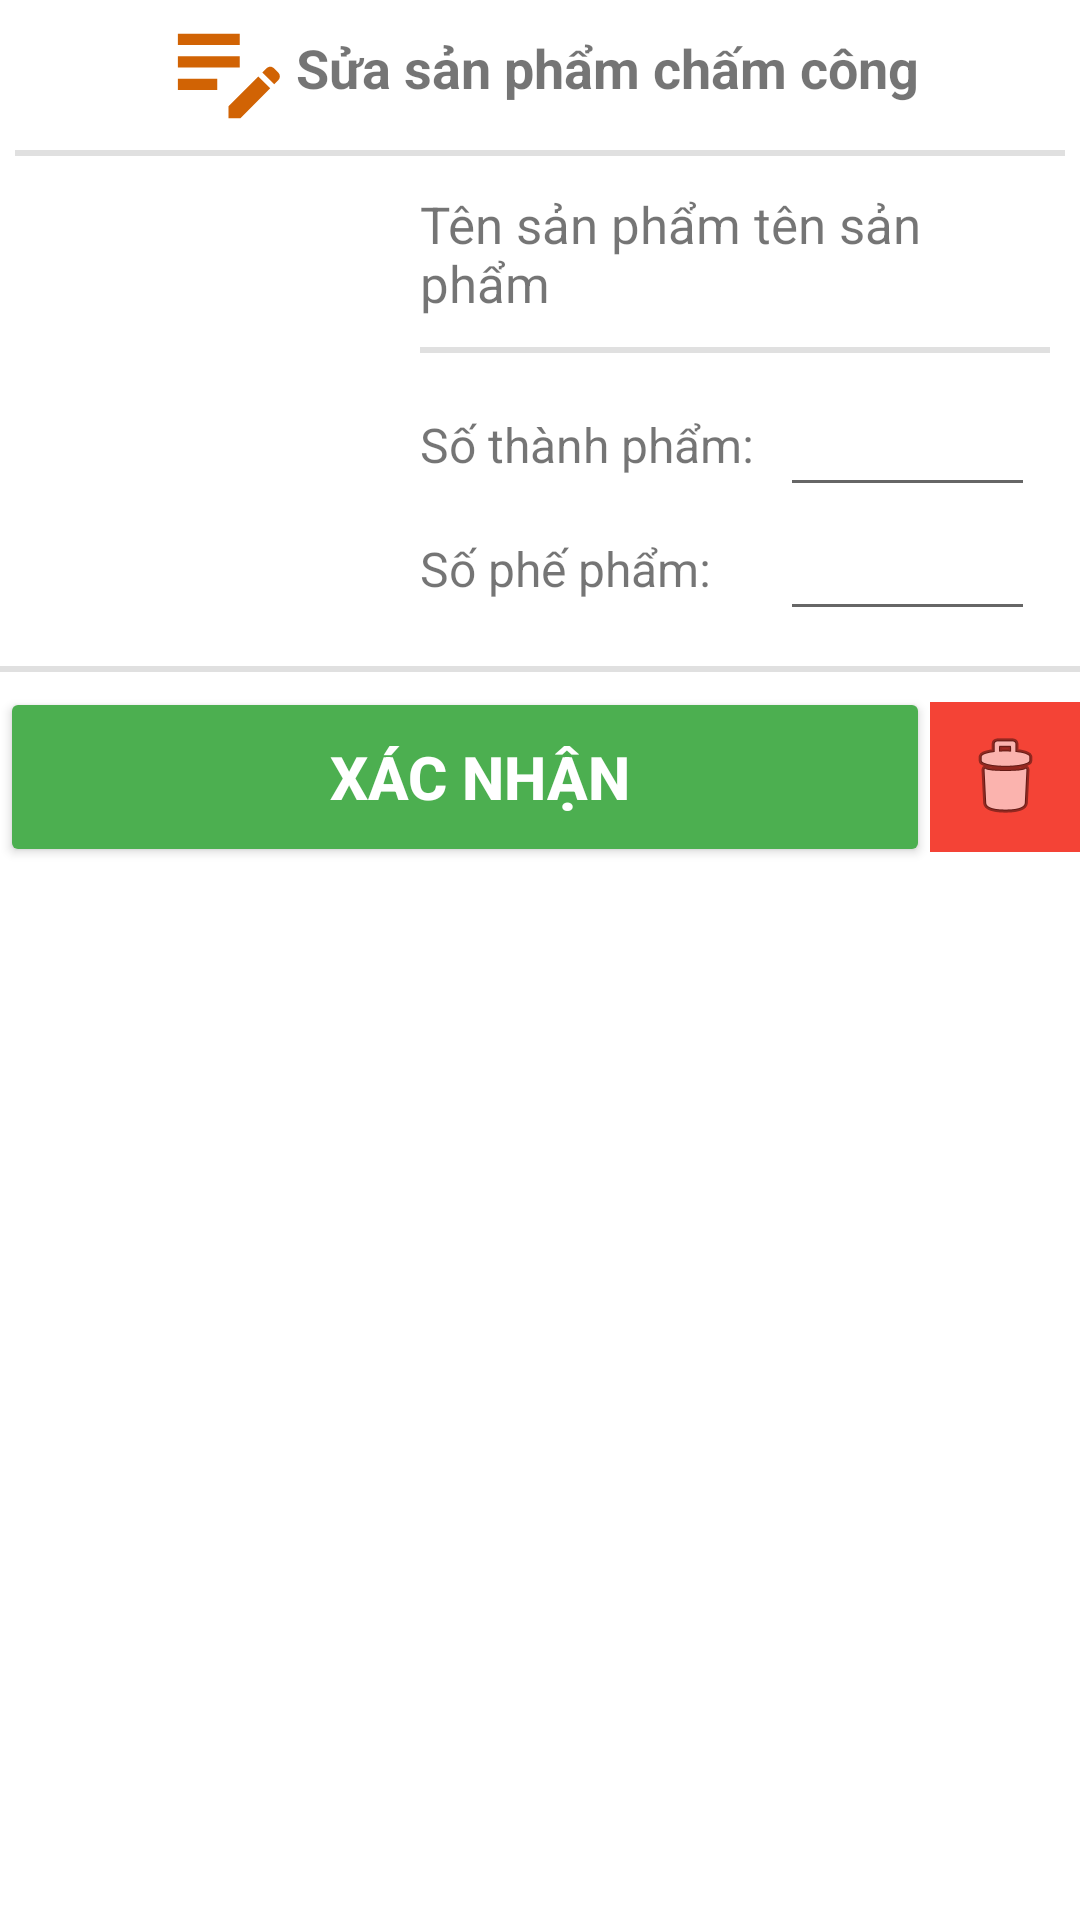

Icon click points for this 1080x1920 phone screenshot, format [x,y]:
delete: [1005,777]
